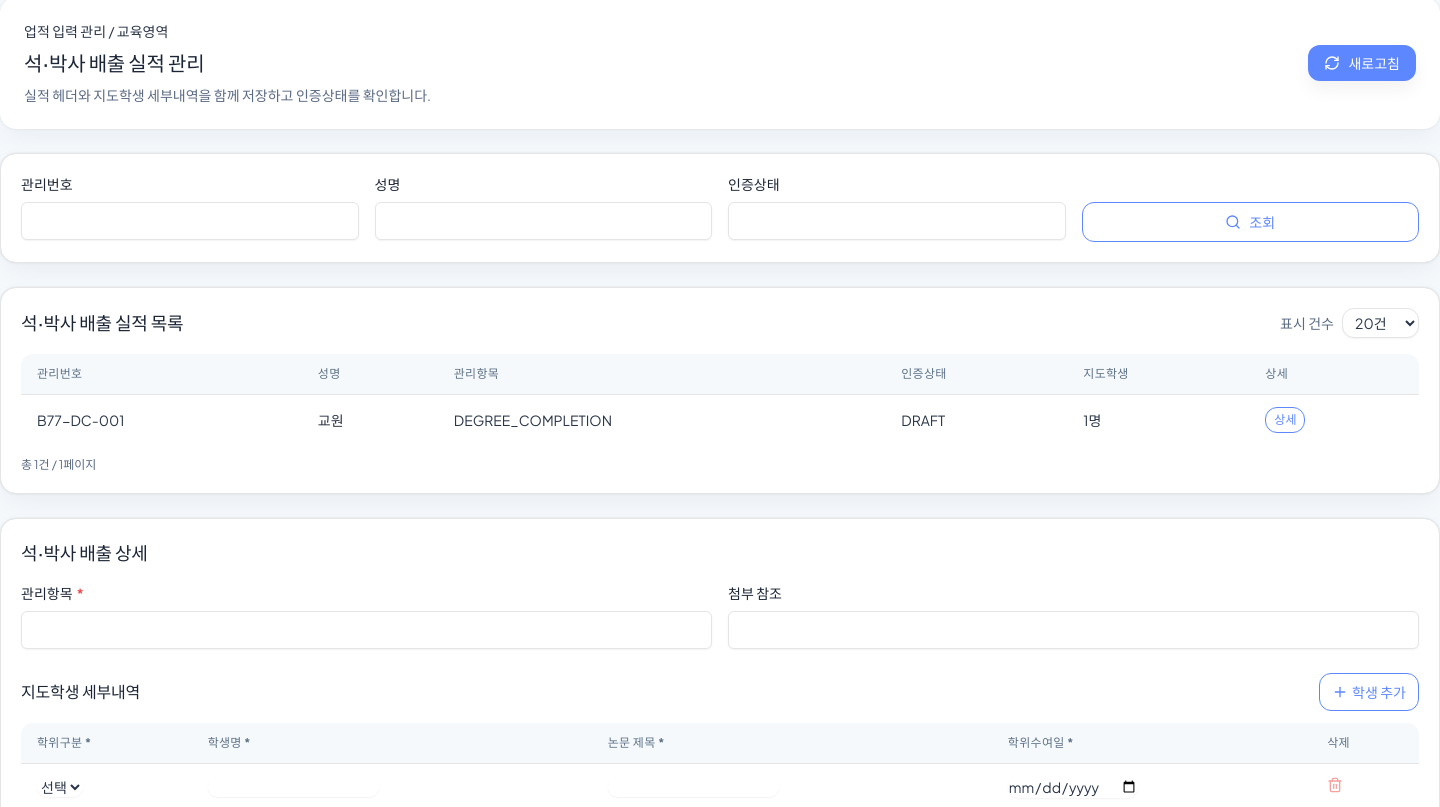
Test: SCR-MASTERS-DOCTORAL-GRADUATION-ACHIEVEMENT-MGMT › saves all student detail fields and refreshes the list
Expected: the text "B77-DC-001" is shown, x1=21 y1=394 x2=302 y2=445
Click the button with test id "degree-completion-detail-button": (1285, 420) x1=1265 y1=407 x2=1305 y2=433
(page scrolled)
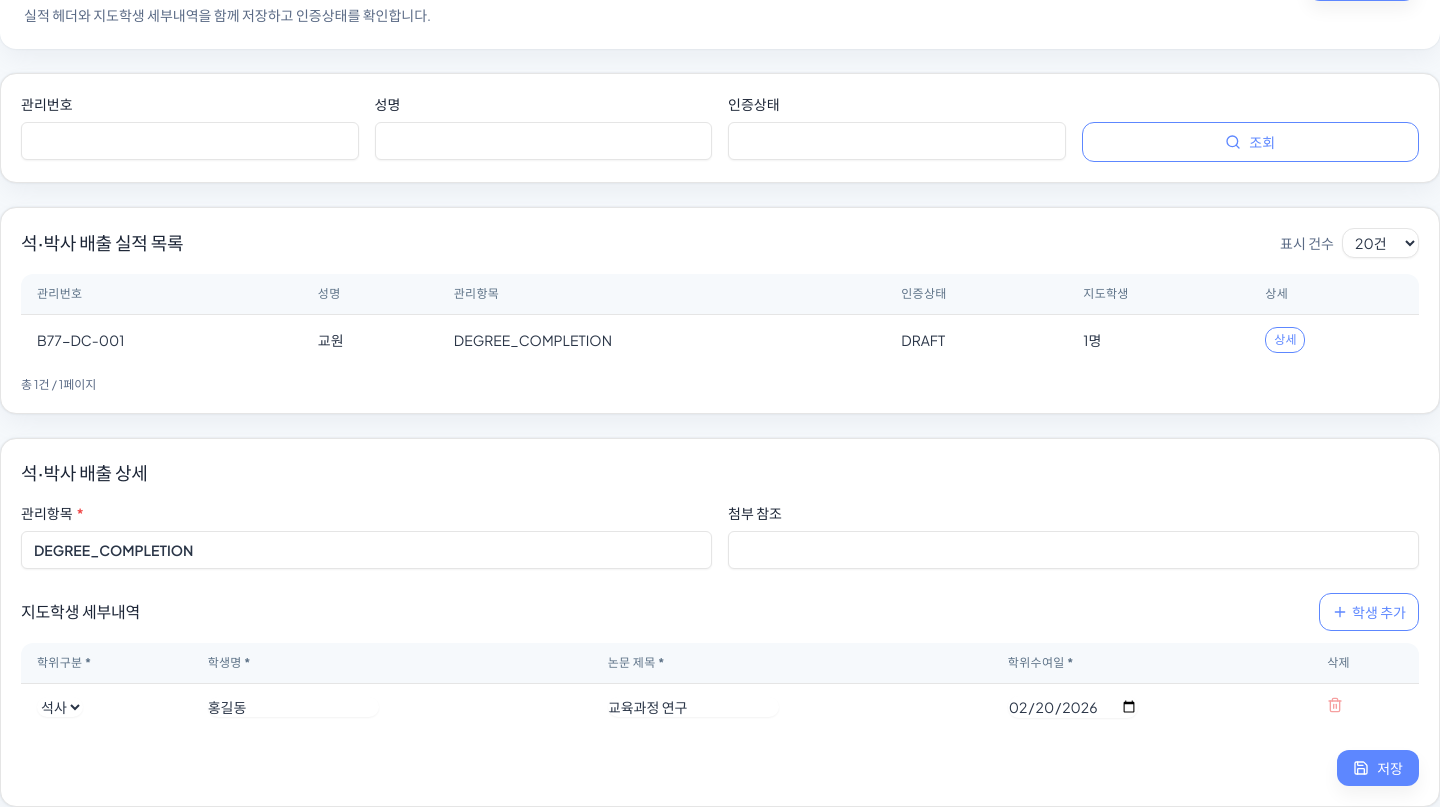
Click the button with test id "degree-completion-save-button": (1378, 768) x1=1337 y1=750 x2=1419 y2=786
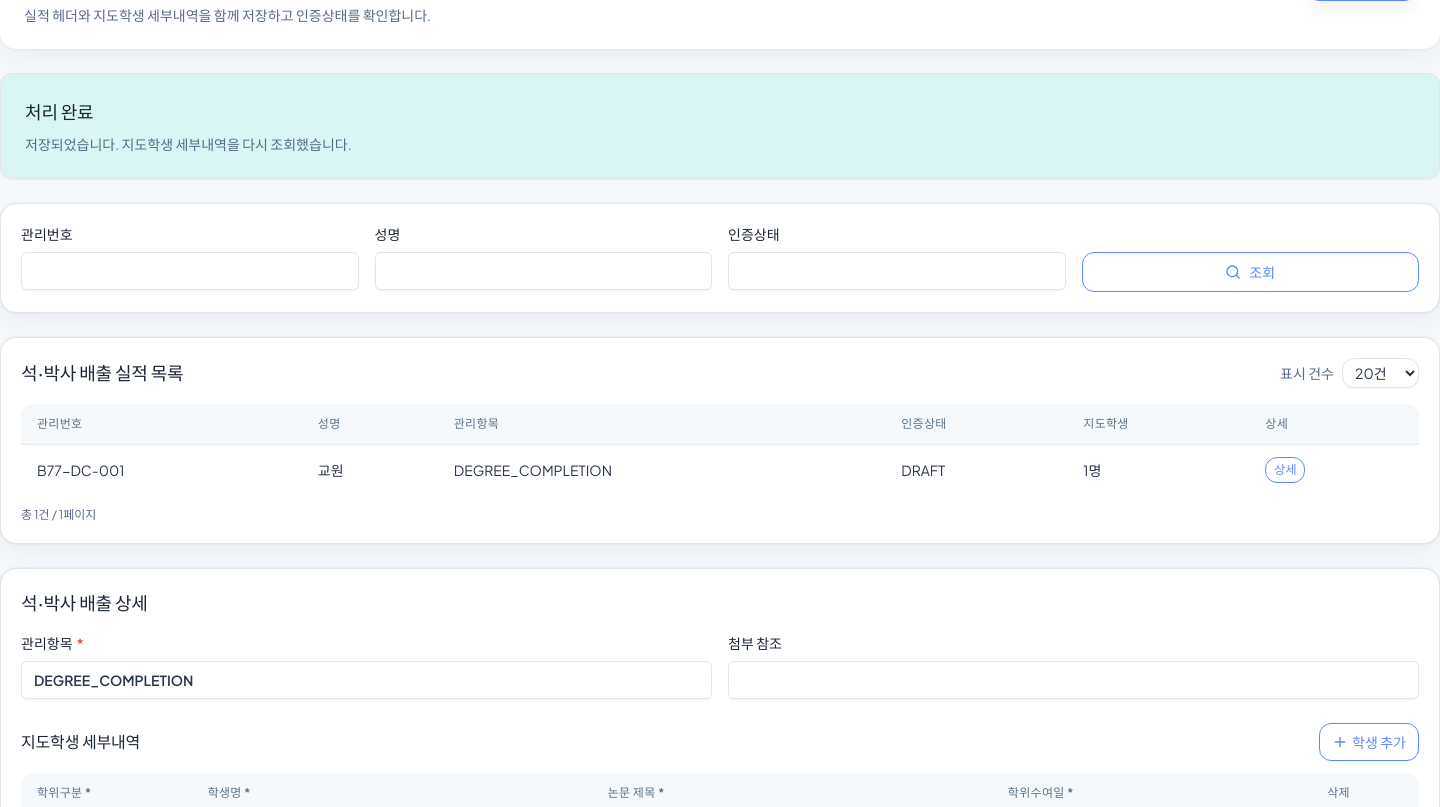
Result: the text "저장되었습니다. 지도학생 세부내역을 다시 조회했습니다." is shown at x1=25 y1=135 x2=352 y2=153
